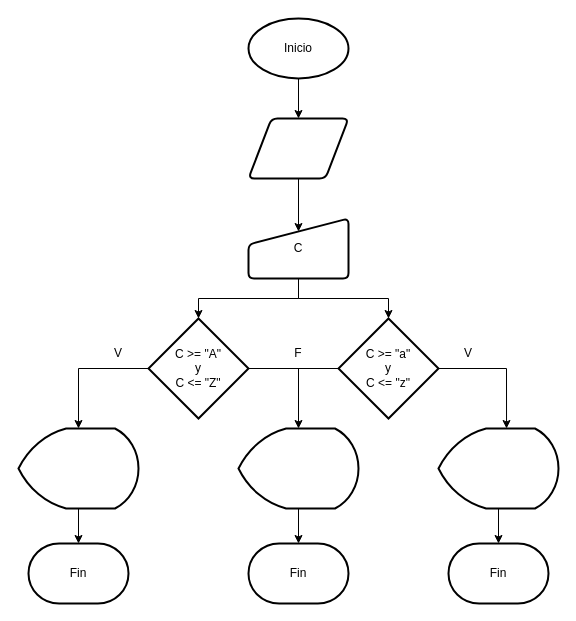
Image size: 576x621. Some labels were removed from this diagram. Each missing label, with the box of its shape:
"ESTA ES UNA LETRA MAYÚSCULA": (17, 427, 139, 509)
"Esta es una letra minúscula": (437, 427, 559, 509)
"No es una letra del alfabeto": (237, 427, 359, 509)
Carácter c: (247, 117, 349, 179)
